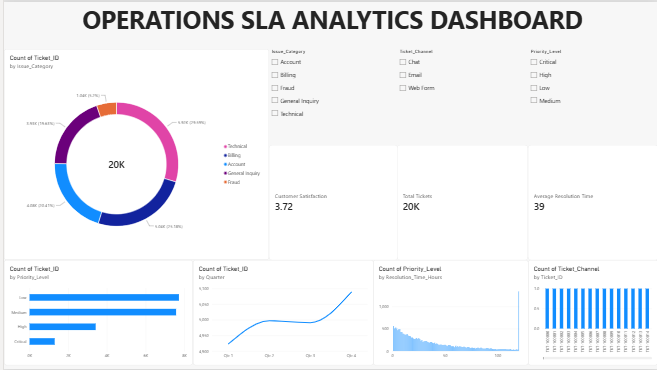

The page's visual inventory and layout, read from the dashboard file:
{"tool":"powerbi","page":{"name":"Page 1","canvas":[1920,1080],"ordinal":0},"visuals":[{"type":"cardVisual","fields":{"Data":["CountNonNull(customer_support_tickets.Ticket_ID)"]},"box":[1155.2,418.7,384.5,338.4],"z":0},{"type":"cardVisual","fields":{"Data":["Avg(customer_support_tickets.Resolution_Time_Hours)"]},"box":[1539.7,418.7,381.1,338.4],"z":1000},{"type":"cardVisual","fields":{"Data":["Avg(customer_support_tickets.Satisfaction_Score)"]},"box":[777.5,418.7,377.7,338.4],"z":2000},{"type":"clusteredBarChart","fields":{"Category":["customer_support_tickets.Priority_Level"],"Y":["CountNonNull(customer_support_tickets.Ticket_ID)"]},"box":[0,757,553.7,309.3],"z":3000},{"type":"donutChart","fields":{"Category":["customer_support_tickets.Issue_Category"],"Y":["CountNonNull(customer_support_tickets.Ticket_ID)"]},"box":[0,138.4,777.5,618.6],"z":4000},{"type":"columnChart","fields":{"Category":["customer_support_tickets.Ticket_ID"],"Y":["CountNonNull(customer_support_tickets.Ticket_Channel)"]},"box":[1539.7,757,381.1,309.3],"z":5000},{"type":"columnChart","fields":{"Category":["customer_support_tickets.Resolution_Time_Hours"],"Y":["CountNonNull(customer_support_tickets.Priority_Level)"]},"box":[1083.4,757,456.3,309.3],"z":6000},{"type":"lineChart","fields":{"Category":["customer_support_tickets.Submission_Date.Variation.Date Hierarchy.Year","customer_support_tickets.Submission_Date.Variation.Date Hierarchy.Quarter","customer_support_tickets.Submission_Date.Variation.Date Hierarchy.Month","customer_support_tickets.Submission_Date.Variation.Date Hierarchy.Day"],"Y":["CountNonNull(customer_support_tickets.Ticket_ID)"]},"box":[553.7,757,529.7,309.3],"z":7000},{"type":"slicer","fields":{"Values":["customer_support_tickets.Priority_Level"]},"box":[1539.7,138.4,381.1,280.3],"z":7001},{"type":"slicer","fields":{"Values":["customer_support_tickets.Issue_Category"]},"box":[777.5,138.4,377.7,280.3],"z":7002},{"type":"slicer","fields":{"Values":["customer_support_tickets.Ticket_Channel"]},"box":[1155.2,138.4,384.5,280.3],"z":7003},{"type":"textbox","box":[10.3,0,1910.5,138.4],"z":7004}]}

Visuals, with their boxes in screenshot pixels (x1, y1, x2, y2), scaled from the page's 1920x1080 canvas onto the 657x370 screenshot:
cardVisual - CountNonNull(customer_support_tickets.Ticket_ID): box(395, 143, 527, 259)
cardVisual - Avg(customer_support_tickets.Resolution_Time_Hours): box(527, 143, 656, 259)
cardVisual - Avg(customer_support_tickets.Satisfaction_Score): box(266, 143, 395, 259)
clusteredBarChart - customer_support_tickets.Priority_Level x CountNonNull(customer_support_tickets.Ticket_ID): box(0, 259, 189, 365)
donutChart - customer_support_tickets.Issue_Category x CountNonNull(customer_support_tickets.Ticket_ID): box(0, 47, 266, 259)
columnChart - customer_support_tickets.Ticket_ID x CountNonNull(customer_support_tickets.Ticket_Channel): box(527, 259, 656, 365)
columnChart - customer_support_tickets.Resolution_Time_Hours x CountNonNull(customer_support_tickets.Priority_Level): box(371, 259, 527, 365)
lineChart - customer_support_tickets.Submission_Date.Variation.Date Hierarchy.Year x customer_support_tickets.Submission_Date.Variation.Date Hierarchy.Quarter: box(189, 259, 371, 365)
slicer - customer_support_tickets.Priority_Level: box(527, 47, 656, 143)
slicer - customer_support_tickets.Issue_Category: box(266, 47, 395, 143)
slicer - customer_support_tickets.Ticket_Channel: box(395, 47, 527, 143)
textbox: box(4, 0, 656, 47)
